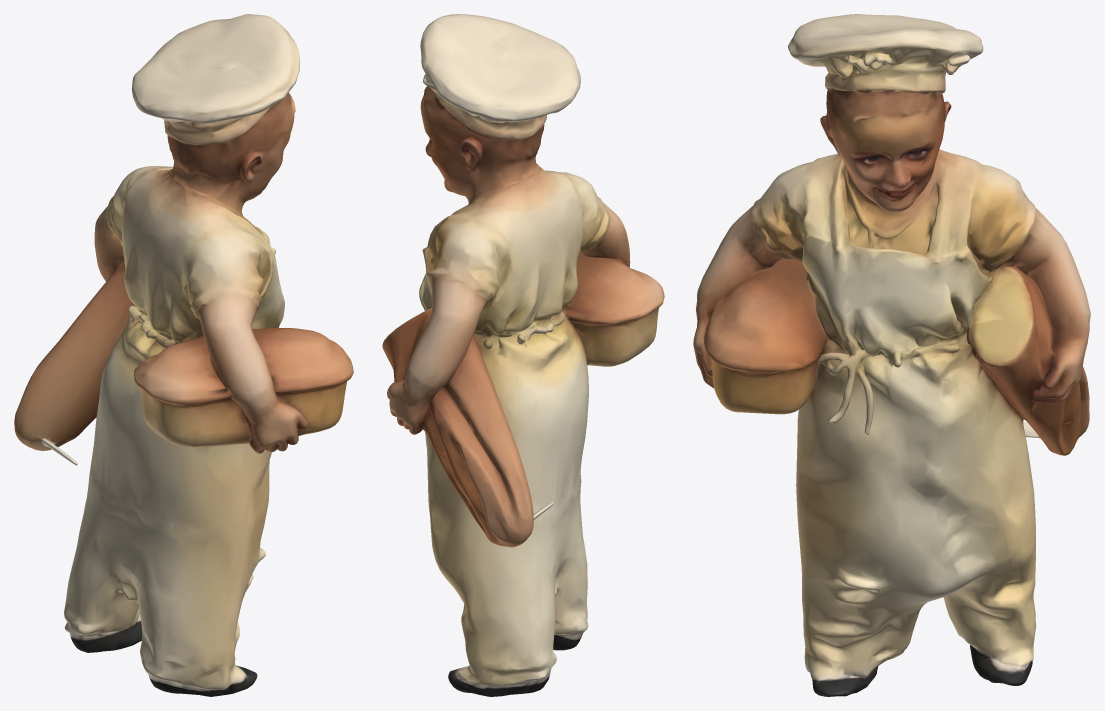
File: tino3d.glb
3 views of the same model, side by side, from view 1: azimuth 30°, elevation 25°; view 2: azimuth 150°, elevation 25°; view 3: azimuth 270°, elevation 25° (orthographic). The views are drawn at different scales.
Visible parts, largest first — view 1: tripo_node_87a5a59d-276d-4537-a19b-2c546a4f1f52; view 2: tripo_node_87a5a59d-276d-4537-a19b-2c546a4f1f52; view 3: tripo_node_87a5a59d-276d-4537-a19b-2c546a4f1f52.
Part boxes in pixels (x1,y1,x2,y2): tripo_node_87a5a59d-276d-4537-a19b-2c546a4f1f52: (14, 14, 353, 696); tripo_node_87a5a59d-276d-4537-a19b-2c546a4f1f52: (382, 14, 664, 696); tripo_node_87a5a59d-276d-4537-a19b-2c546a4f1f52: (693, 14, 1090, 696).
Size of the model in its own units: 0.317 by 0.9999 by 0.5174.
Materials: 1 (1 with a texture image).
